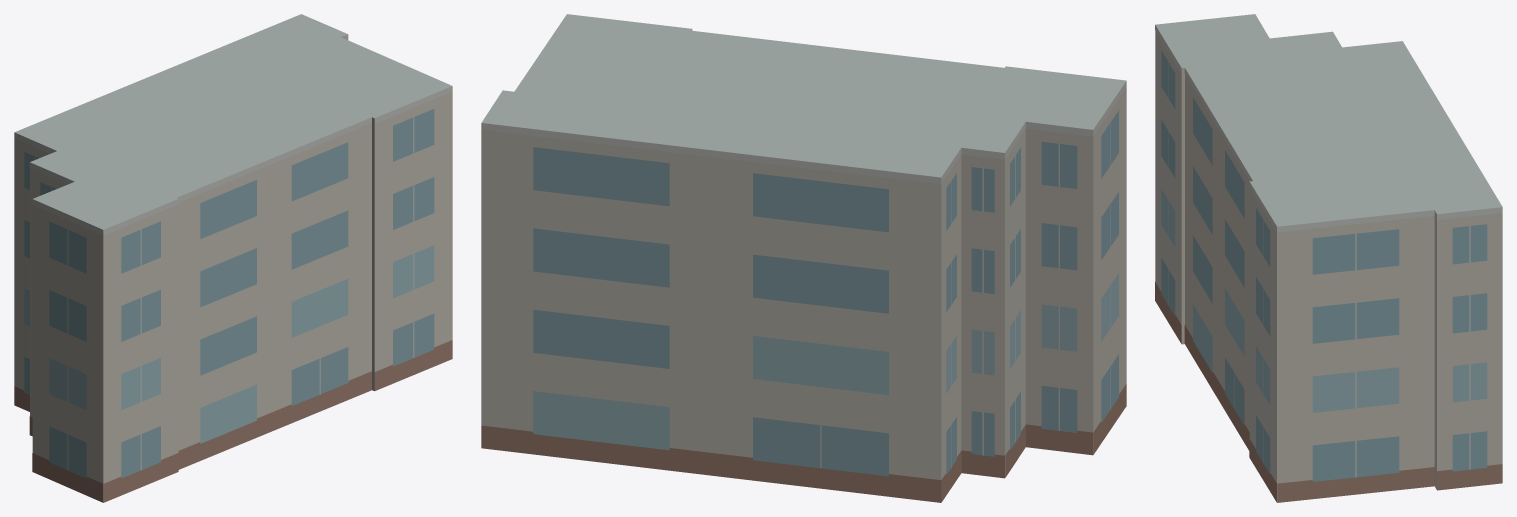
File: survey-upis-32616038.glb
3 renders of one model, left to right at view 1: azimuth 30°, elevation 25°; view 2: azimuth 150°, elevation 25°; view 3: azimuth 270°, elevation 25°, orthographic. The views are drawn at different scales.
Parts seen in each view (by area): view 1: survey-upis-32616038.tmp; view 2: survey-upis-32616038.tmp; view 3: survey-upis-32616038.tmp.
Part boxes in pixels (x1,y1,x2,y2): survey-upis-32616038.tmp: (14,14,452,502); survey-upis-32616038.tmp: (481,14,1126,502); survey-upis-32616038.tmp: (1155,14,1502,502).
Size of the model in its own units: 19.42 by 11.75 by 13.41.
